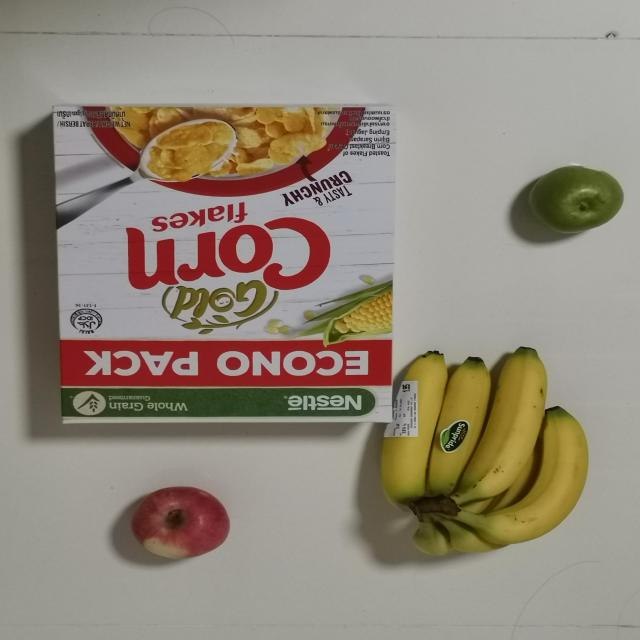Apple: (130, 486, 246, 564), (524, 164, 630, 236)
Banana: (383, 347, 588, 554)
Cerealbox: (45, 100, 398, 431)
